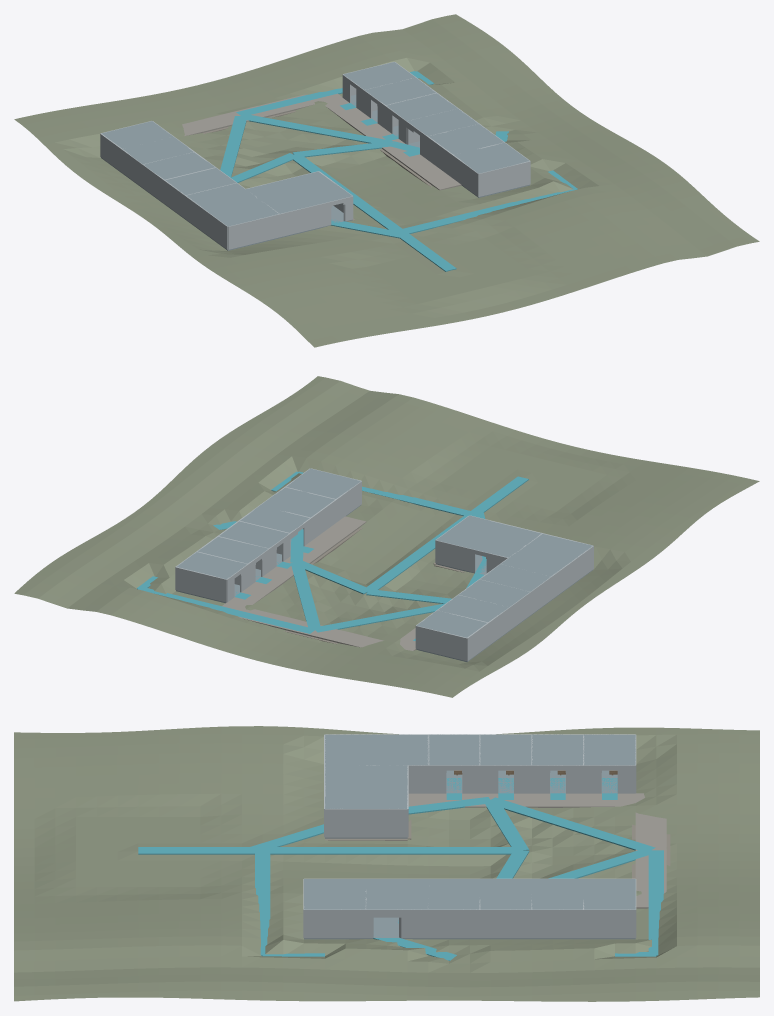
File: open-circulation.glb
The picture shows the model from 3 angles, top to bottom: view 1: azimuth 30°, elevation 25°; view 2: azimuth 150°, elevation 25°; view 3: azimuth 270°, elevation 25°; orthographic projection. The views are drawn at different scales.
Parts seen in each view (by area): view 1: Authored roadside terrain, Ceiling cap office, Ceiling cap manager, Ceiling cap plant, Ceiling cap laundry, Flat route shell Wall office S, Wall plant S, Wall manager S, Ceiling cap room5, Ceiling cap room1, Ceiling cap room2, Ceiling cap room8 (+15 smaller); view 2: Authored roadside terrain, Ceiling cap office, Ceiling cap manager, Ceiling cap plant, Ceiling cap laundry, Wall room5 N, Wall room1 N, Ceiling cap room4, Ceiling cap room3, Ceiling cap room2, Ceiling cap room5, Ceiling cap room1 (+16 smaller); view 3: Authored roadside terrain, Ceiling cap office, Ceiling cap manager, Wall office E, route-03 support 0, Ceiling cap laundry, Ceiling cap plant, Wall plant E, Ceiling cap room8, Ceiling cap room3, Ceiling cap room1, Ceiling cap room4 (+33 smaller).
Boxes of the visible parts, box(x1,y1,x2,y2) form: Authored roadside terrain: box(14, 14, 759, 347); Ceiling cap office: box(246, 171, 352, 213); Ceiling cap manager: box(186, 183, 278, 226); Ceiling cap plant: box(454, 142, 529, 173); Ceiling cap laundry: box(428, 124, 503, 154); Flat route shell Wall office S: box(279, 201, 332, 237); Wall plant S: box(478, 161, 530, 196); Wall manager S: box(228, 214, 279, 249); Ceiling cap room5: box(343, 62, 415, 89); Ceiling cap room1: box(102, 121, 172, 148); Ceiling cap room2: box(123, 136, 193, 164); Ceiling cap room8: box(407, 108, 478, 135); Authored roadside terrain: box(14, 376, 759, 697); Ceiling cap office: box(436, 515, 541, 557); Ceiling cap manager: box(501, 534, 592, 576); Ceiling cap plant: box(286, 468, 360, 498); Ceiling cap laundry: box(260, 487, 334, 517); Wall room5 N: box(175, 567, 226, 602); Wall room1 N: box(416, 625, 467, 661); Ceiling cap room4: box(480, 564, 550, 591); Ceiling cap room3: box(459, 579, 529, 607); Ceiling cap room2: box(438, 595, 508, 622); Ceiling cap room5: box(176, 552, 246, 579); Ceiling cap room1: box(416, 610, 486, 637); Authored roadside terrain: box(14, 726, 759, 1001); Ceiling cap office: box(325, 765, 407, 808); Ceiling cap manager: box(325, 734, 428, 765); Wall office E: box(325, 808, 407, 837); route-03 support 0: box(252, 847, 521, 854); Ceiling cap laundry: box(366, 879, 428, 909); Ceiling cap plant: box(304, 879, 366, 909); Wall plant E: box(304, 909, 366, 938); Ceiling cap room8: box(428, 879, 480, 909); Ceiling cap room3: box(480, 734, 531, 765); Ceiling cap room1: box(584, 734, 635, 765); Ceiling cap room4: box(428, 734, 480, 765).
Bounding box in the file's own units: 61.8 × 3.76 × 72.
20 materials, 12 textured.
